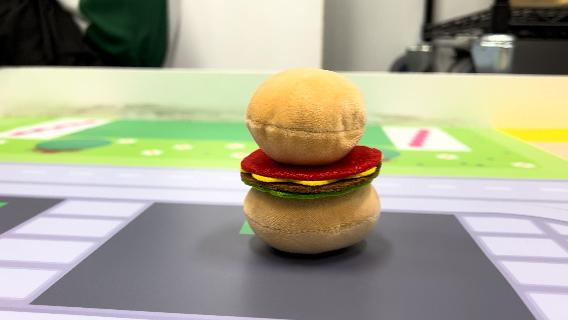burger: (236, 64, 388, 256)
